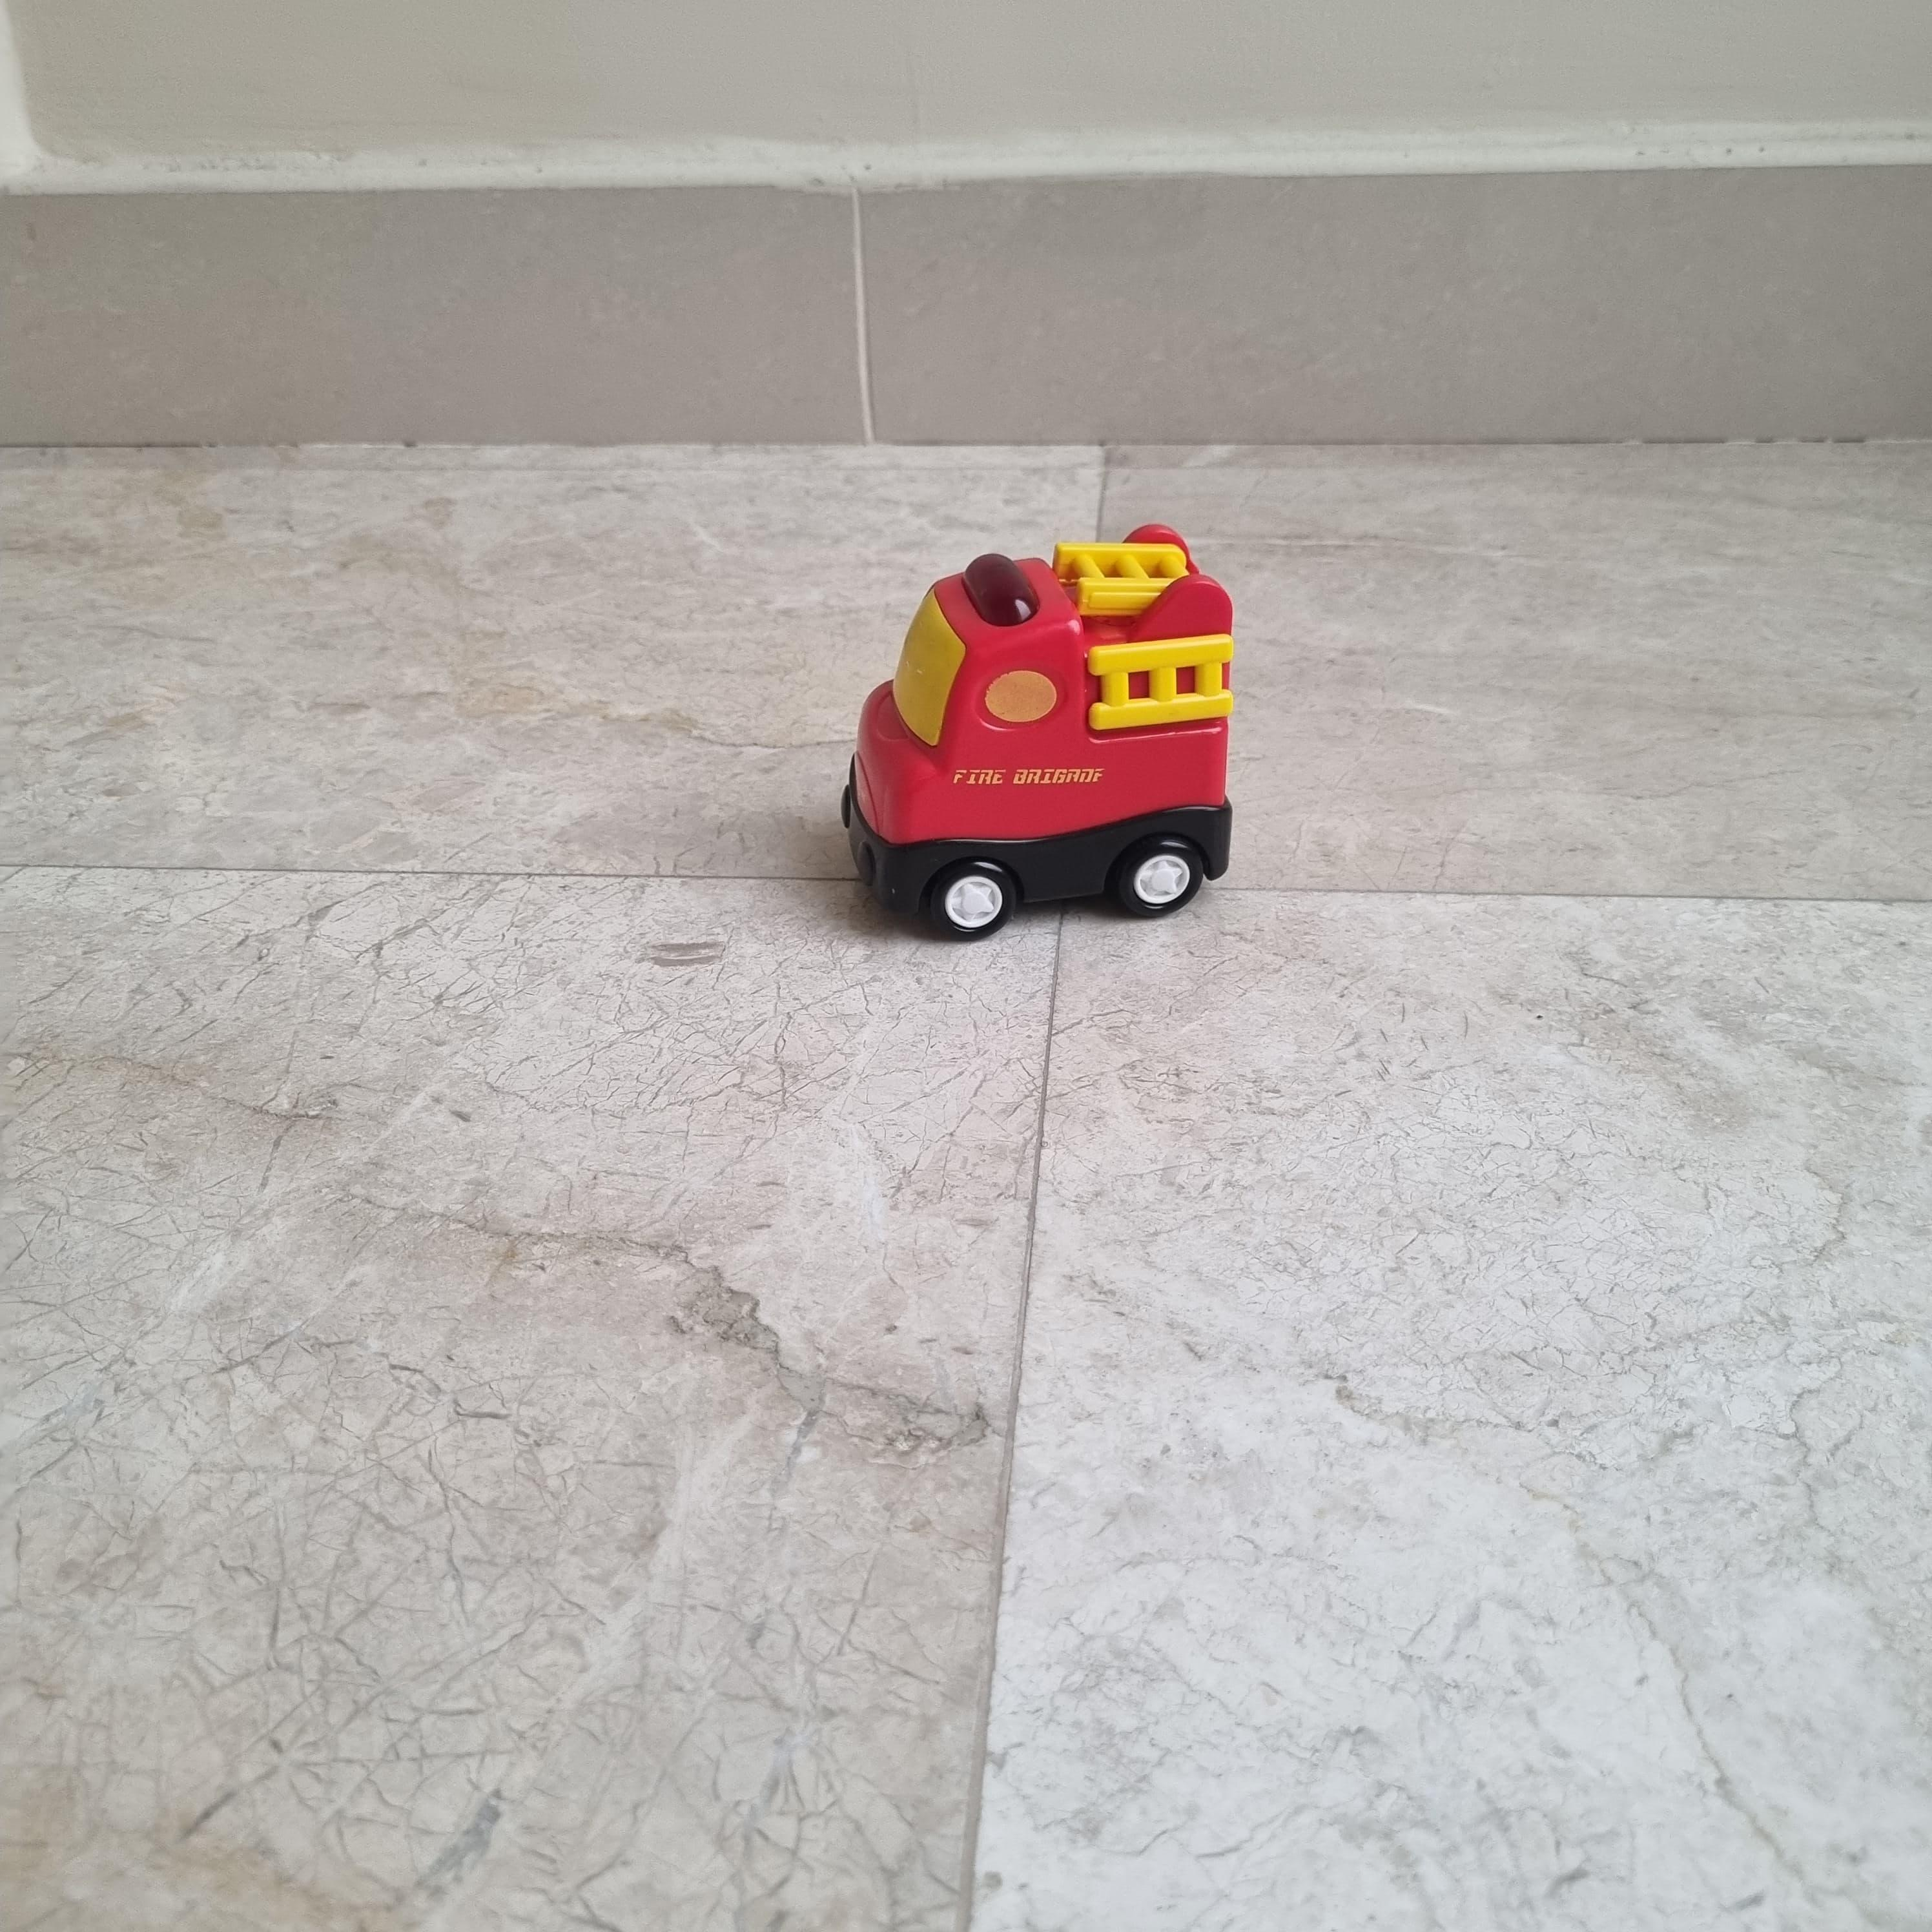firetruck_off: (840, 522, 1233, 941)
